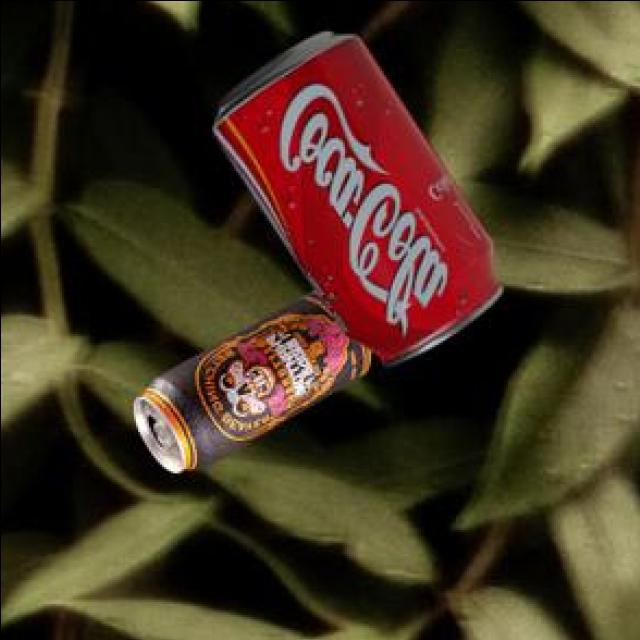logam: (217, 27, 504, 362), (136, 286, 373, 469)
